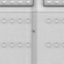dust: (32, 29, 35, 32)
